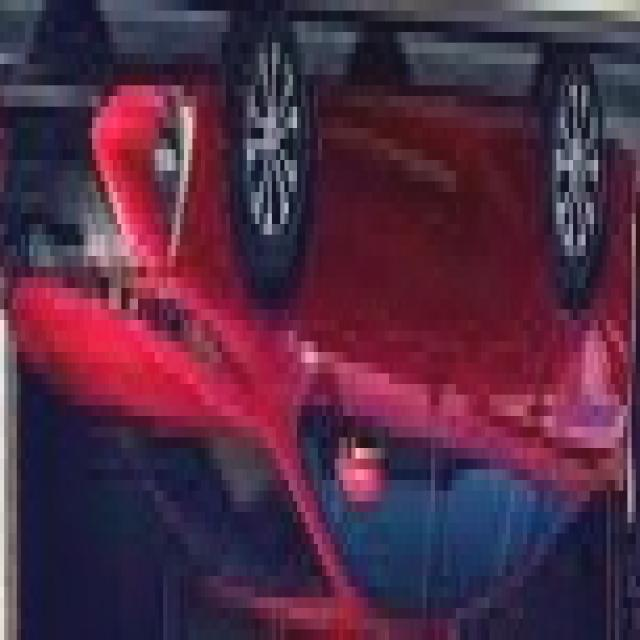maroon: (0, 73, 640, 627)
